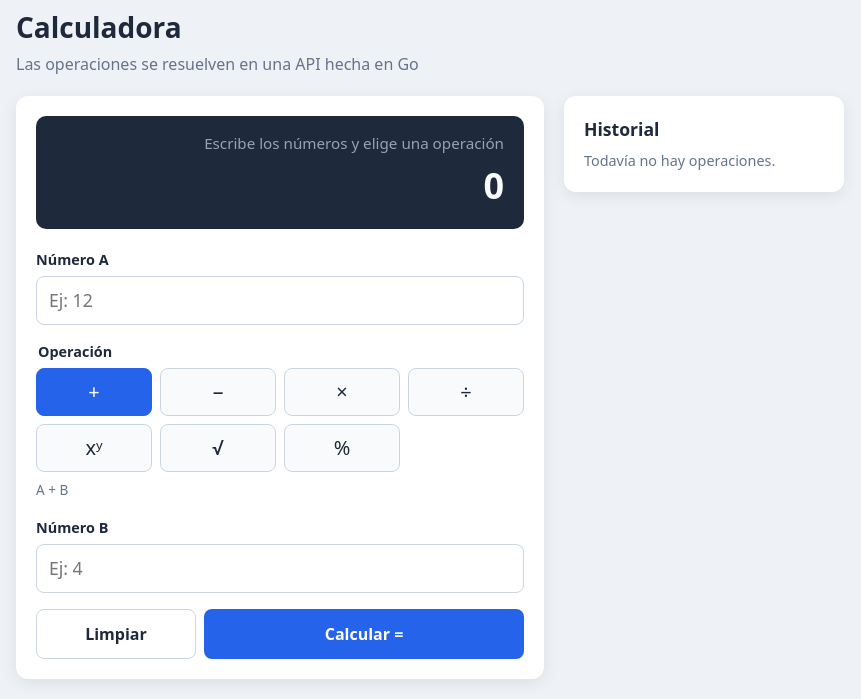
Test: App › calcula usando la API y muestra el resultado y el historial
Type "6" into the field labelled "Número A".
click(280, 301); type("6")  # box [36,276,524,325]
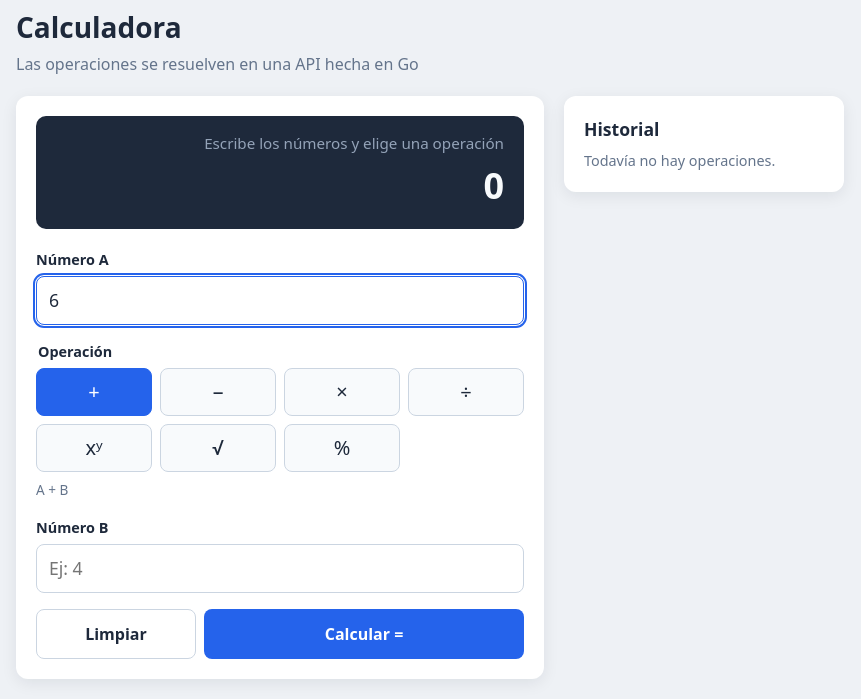
Click the radio button named "Multiplicación".
click(342, 392)  # box [284,368,400,416]
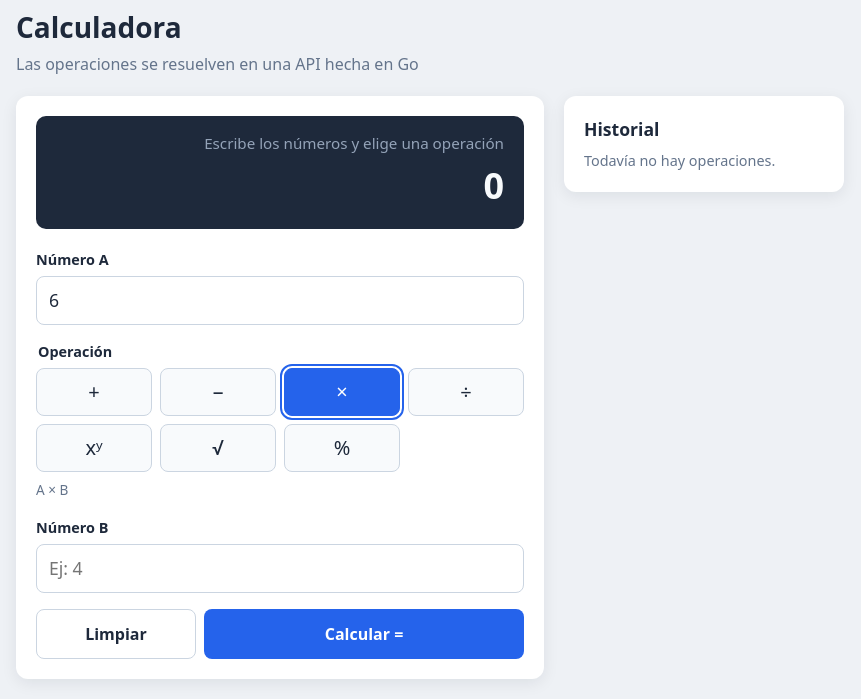
Type "7" into the field labelled "Número B".
click(280, 569); type("7")  # box [36,544,524,593]
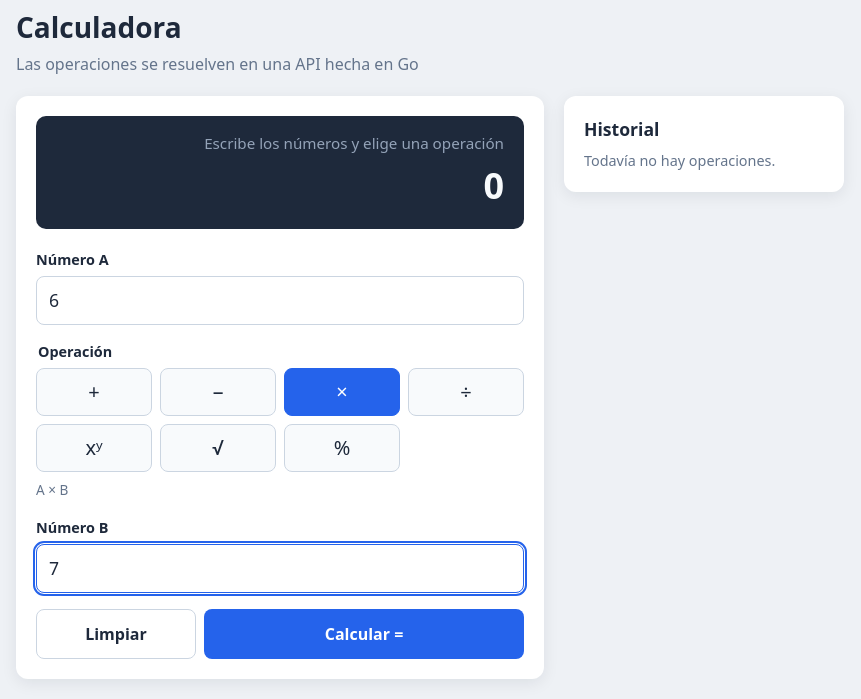
Click the button "Calcular =".
click(364, 634)  # box [204,609,524,659]
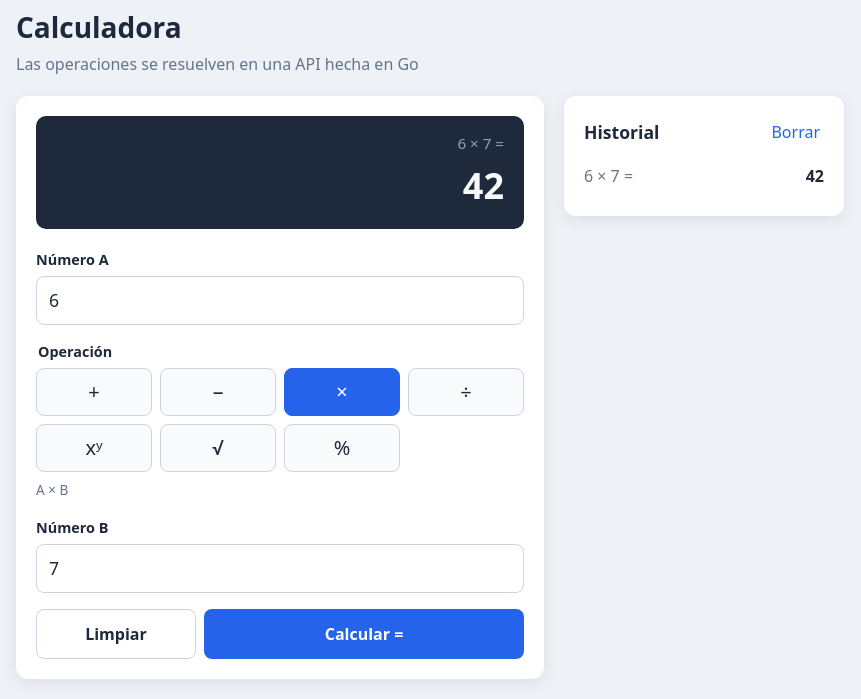
Check: the 1st text "42" is shown, box [463,161,504,210]
Check: the text "6 × 7 =" below "Historial" is shown, box [584,164,633,188]
Check: the text "42" below "Historial" is shown, box [806,165,824,187]
